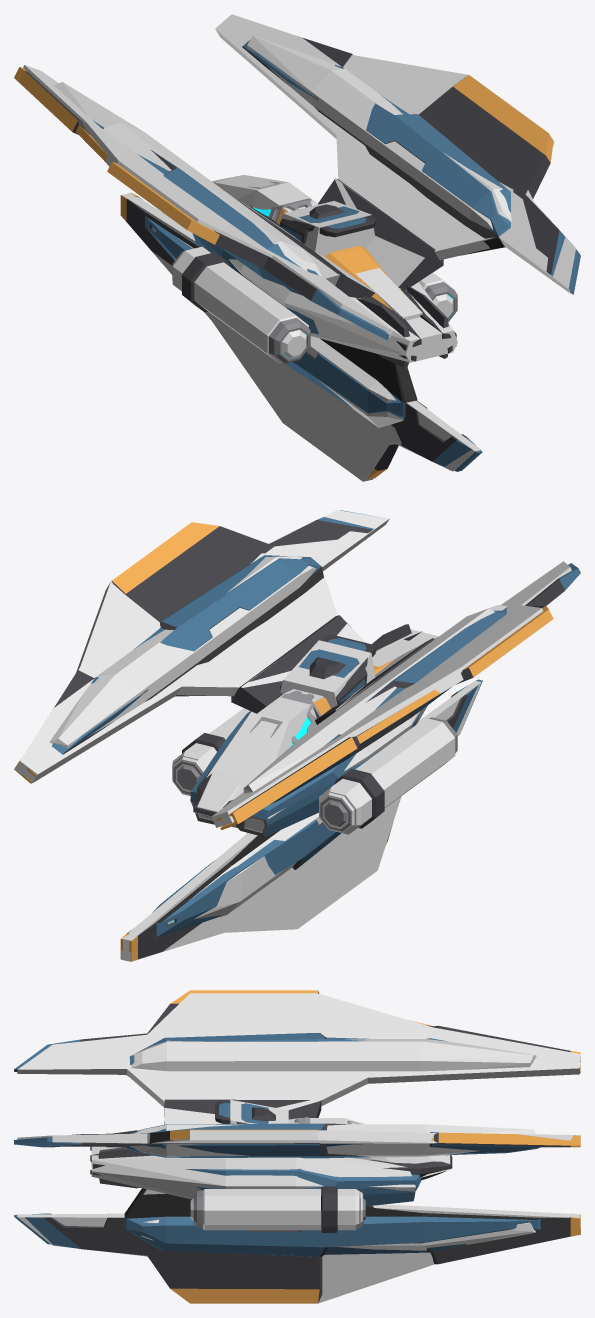
Rendered from SM_Ship_Stealth_03.fbx.
3 renders of one model, top to bottom at view 1: azimuth 30°, elevation 25°; view 2: azimuth 150°, elevation 25°; view 3: azimuth 270°, elevation 25°, orthographic. The views are drawn at different scales.
Visible parts, largest first — view 1: SM_Ship_Stealth_03_ConvexHulls, SM_Ship_Stealth_03_LOD0; view 2: SM_Ship_Stealth_03_ConvexHulls, SM_Ship_Stealth_03_LOD0; view 3: SM_Ship_Stealth_03_ConvexHulls, SM_Ship_Stealth_03_LOD0.
Boxes of the visible parts, left/top/right/bottom form: SM_Ship_Stealth_03_ConvexHulls: left=23, top=14, right=576, bottom=481; SM_Ship_Stealth_03_LOD0: left=14, top=37, right=580, bottom=479; SM_Ship_Stealth_03_ConvexHulls: left=15, top=510, right=571, bottom=961; SM_Ship_Stealth_03_LOD0: left=14, top=510, right=580, bottom=961; SM_Ship_Stealth_03_ConvexHulls: left=17, top=993, right=580, bottom=1303; SM_Ship_Stealth_03_LOD0: left=14, top=990, right=580, bottom=1303.
Size of the model in its own units: 1567 by 938 by 739.
Materials: 1 (1 with a texture image).
